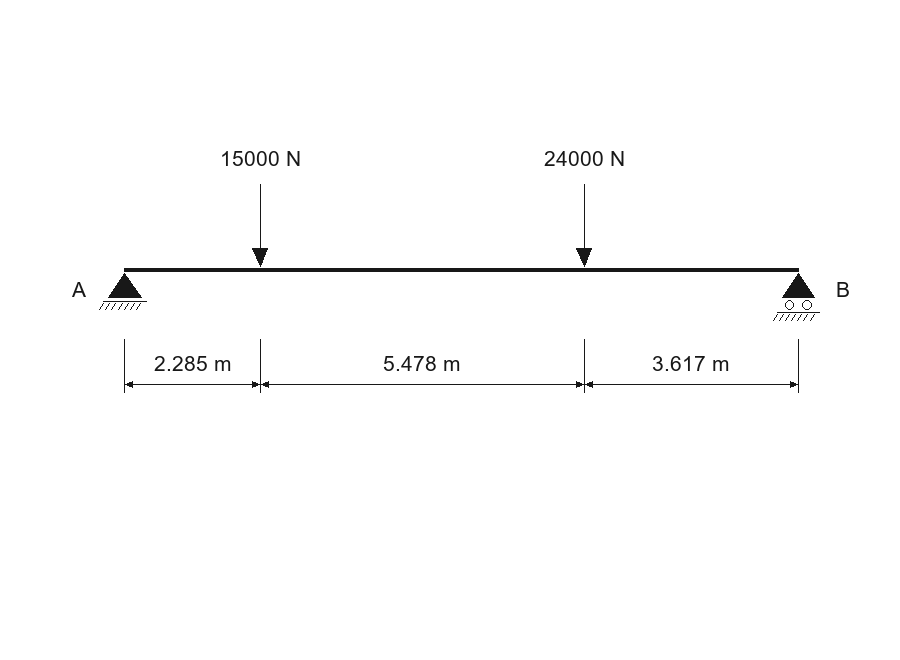pin_support: (99, 273, 147, 310)
point_load: (252, 184, 268, 267), (576, 184, 592, 267)
roller_support: (773, 273, 820, 321)
